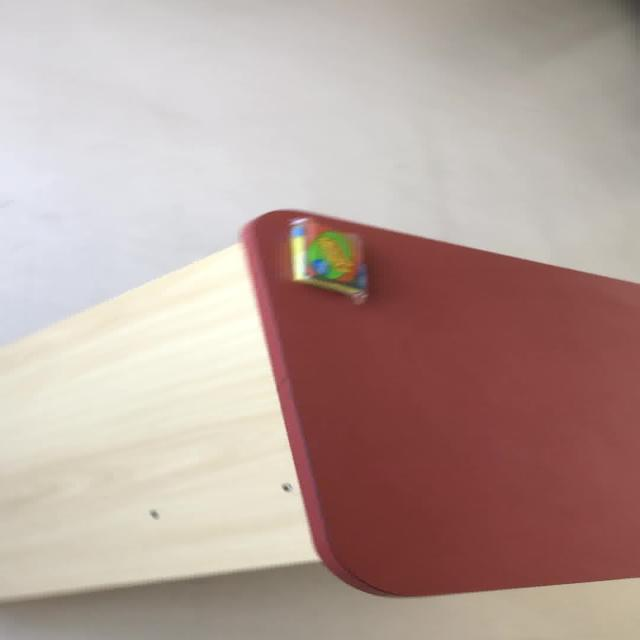sponge: (238, 208, 638, 597), (286, 216, 369, 304)
